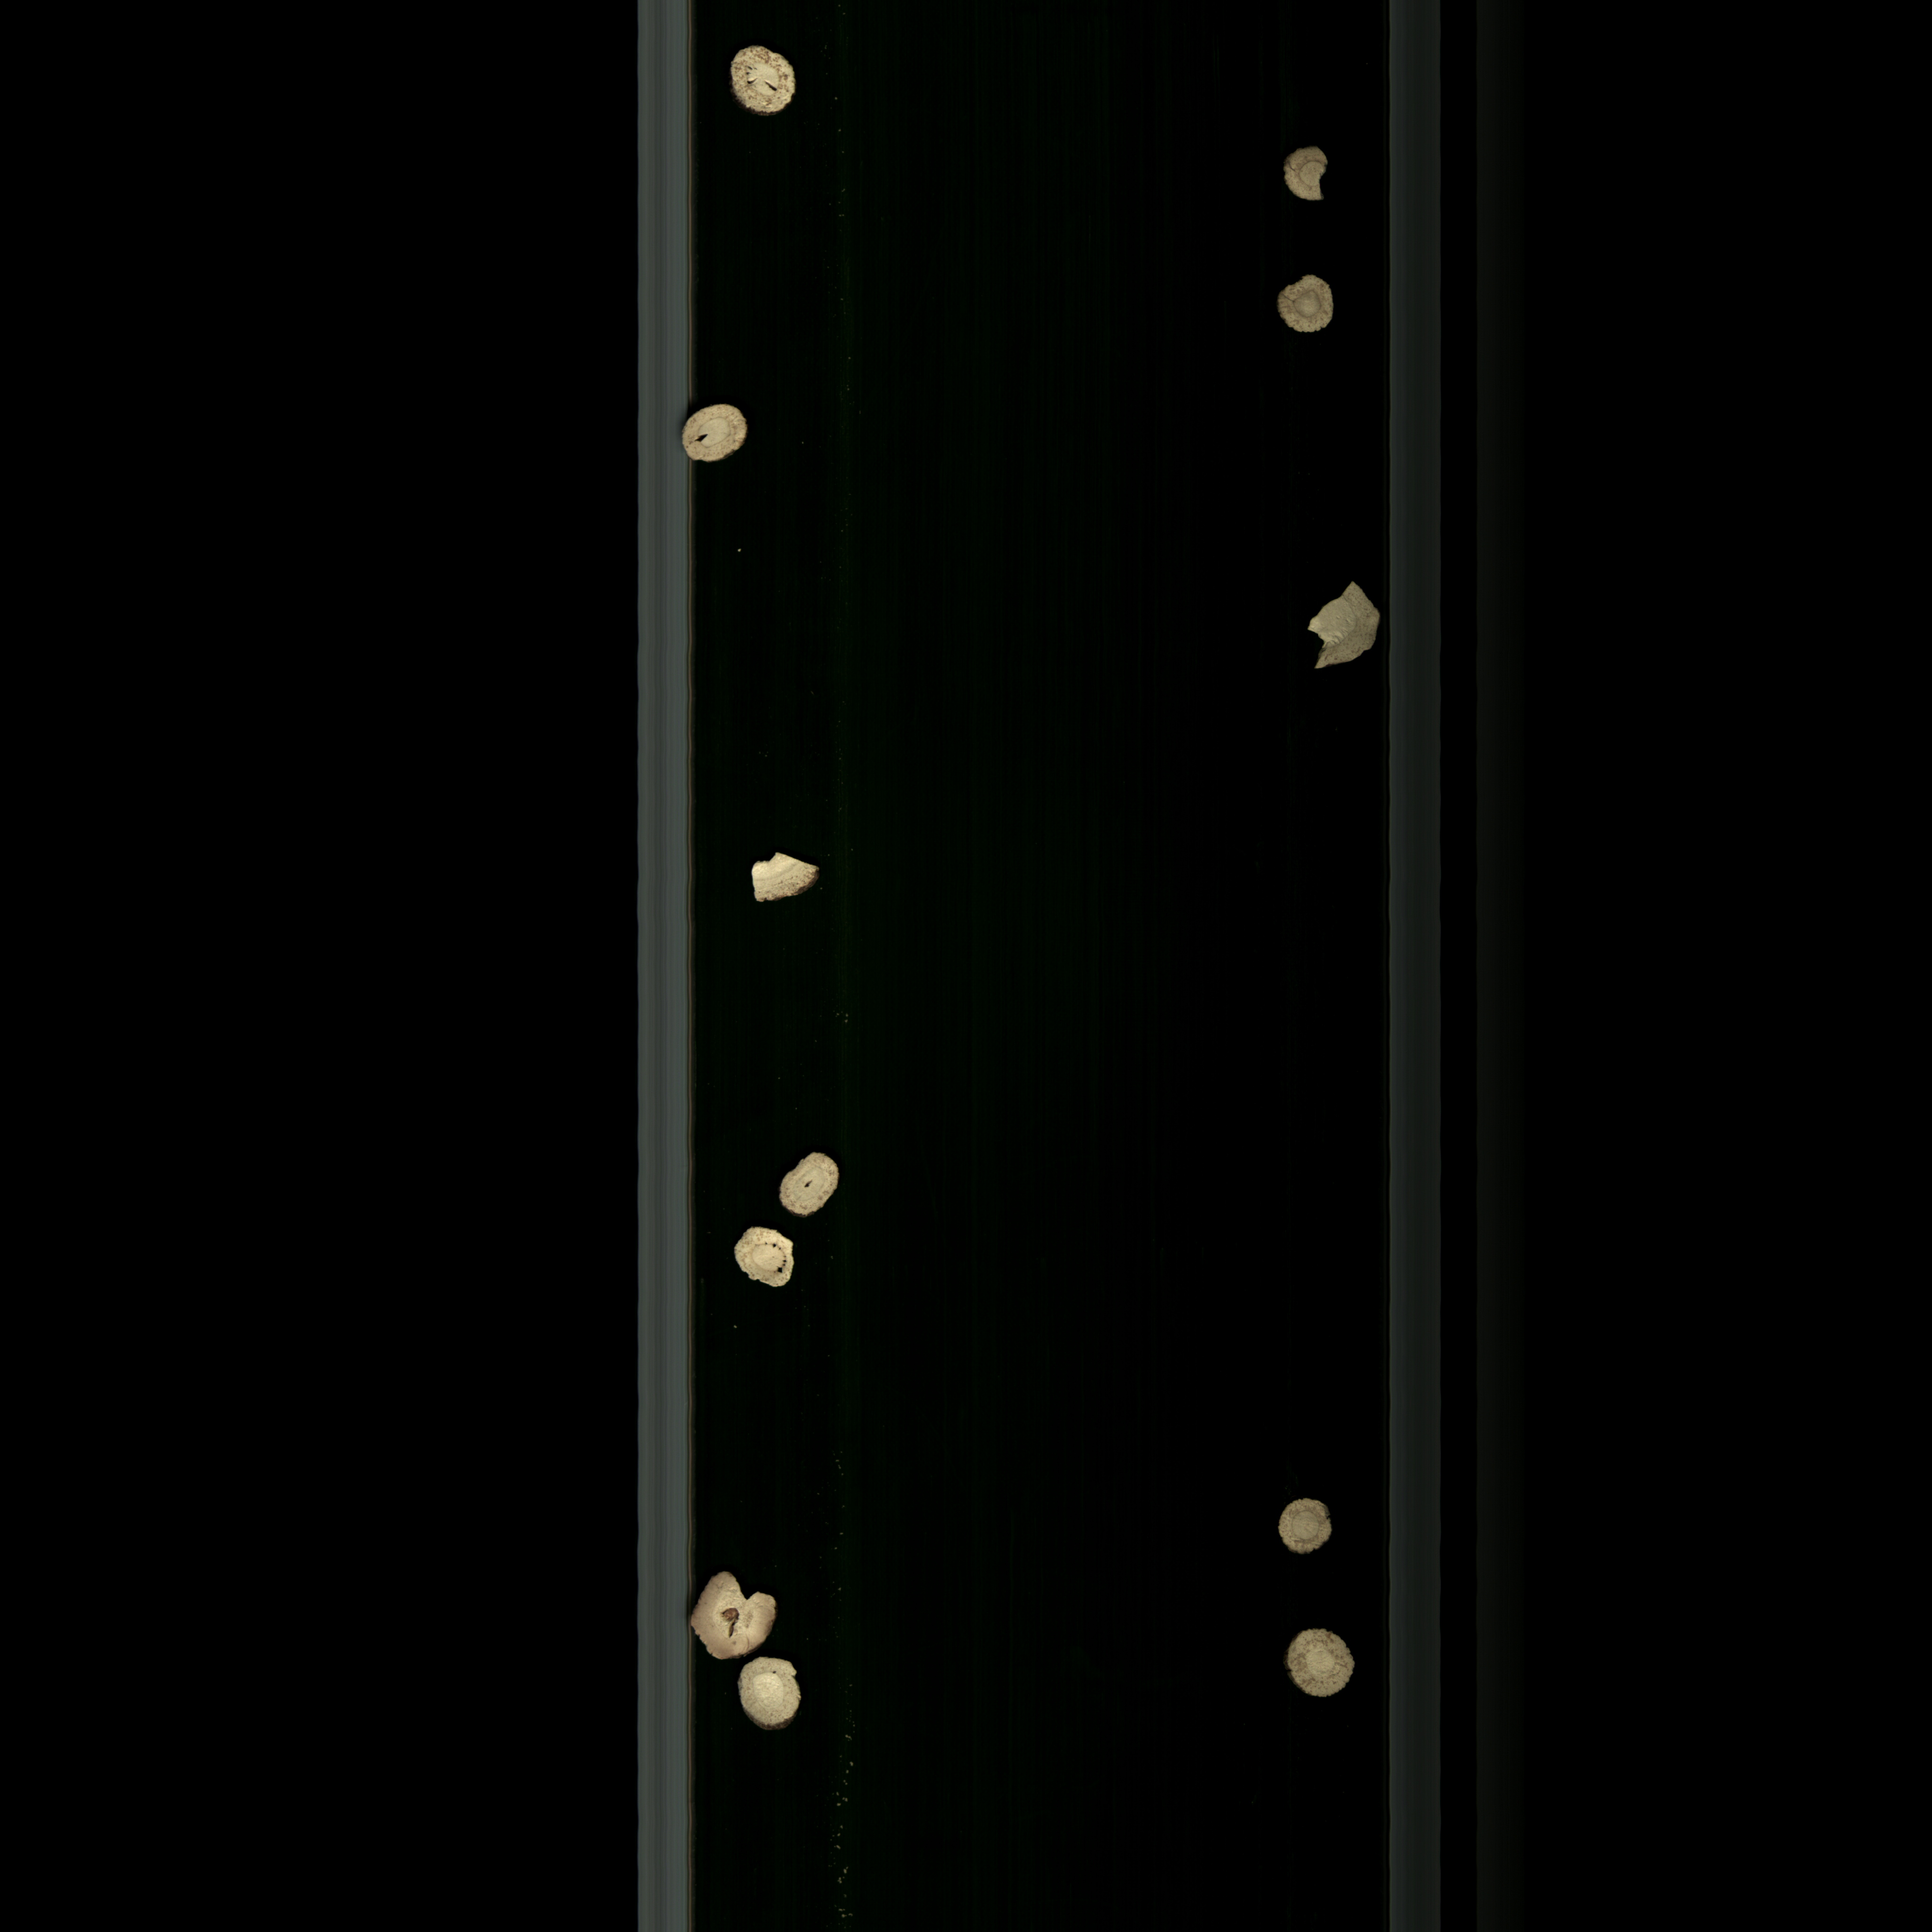debris: (1297, 573, 1387, 686)
dreg: (725, 842, 828, 918)
hole: (717, 1214, 800, 1299), (771, 1141, 849, 1226), (678, 395, 761, 472)
moldy: (686, 1559, 789, 1663), (717, 37, 812, 129), (1274, 1626, 1362, 1704), (1261, 262, 1339, 349), (1274, 136, 1336, 214)
